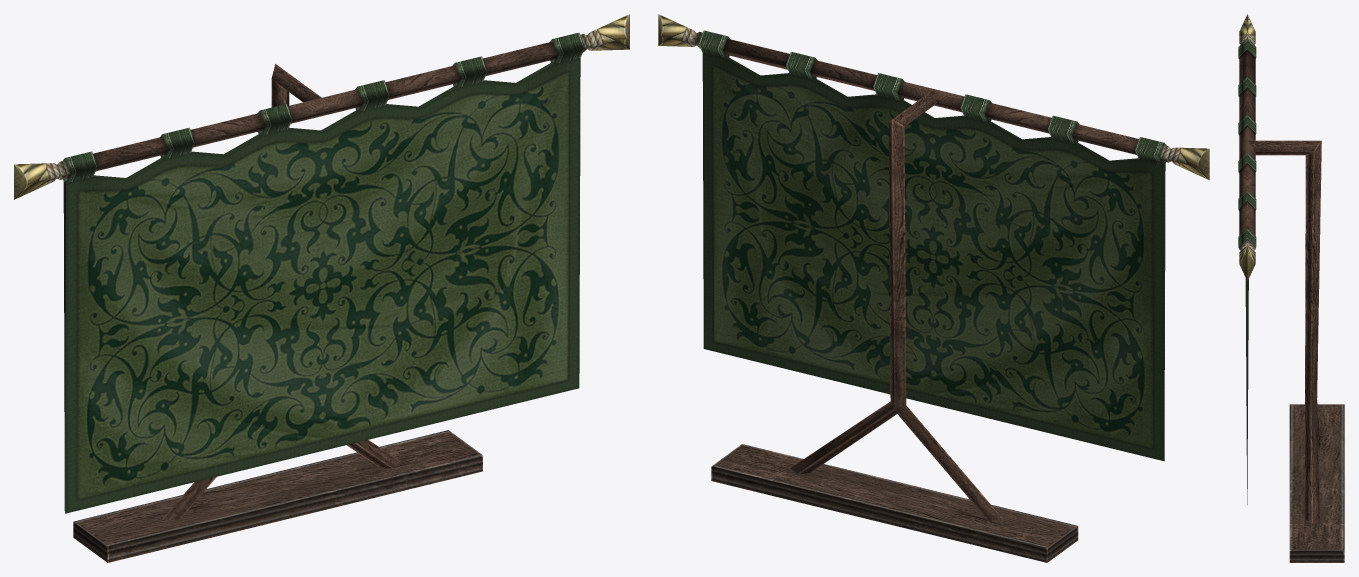
Rendered from tapestry.dae.
3 views of the same model, side by side, from view 1: azimuth 30°, elevation 25°; view 2: azimuth 150°, elevation 25°; view 3: azimuth 270°, elevation 25° (orthographic). The views are drawn at different scales.
Visible parts, largest first — view 1: tapestryMesh; view 2: tapestryMesh; view 3: tapestryMesh.
Boxes of the visible parts, x1,y1,x2,y2 form: tapestryMesh: [14, 14, 629, 562]; tapestryMesh: [658, 14, 1209, 562]; tapestryMesh: [1238, 14, 1344, 562].
Bounding box in the file's own units: 3.35 × 2.33 × 0.6302.
Materials: 1 (1 with a texture image).
